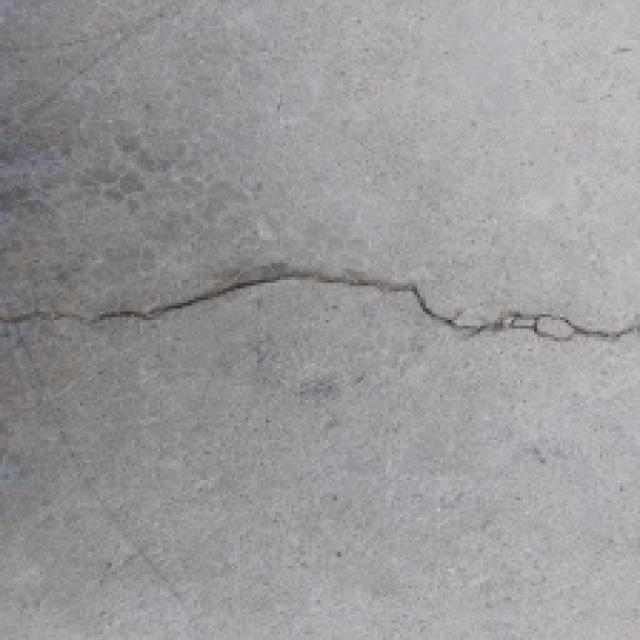SurfaceCrack: (2, 240, 640, 358)
